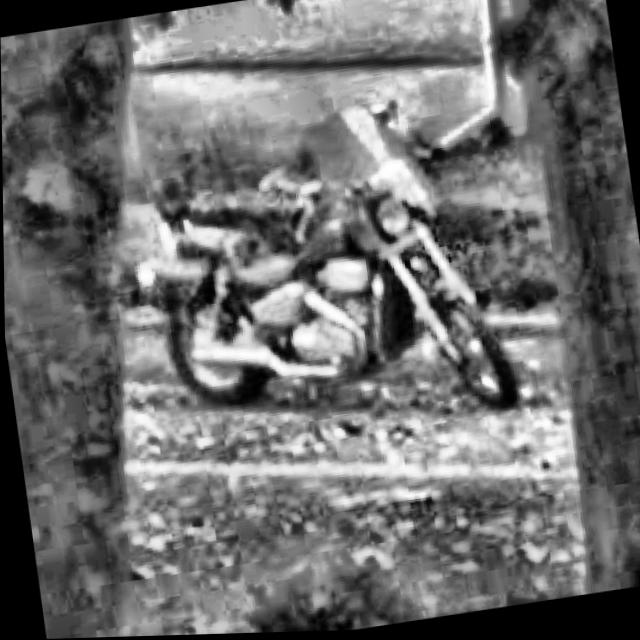motorcycle: (83, 81, 553, 468)
